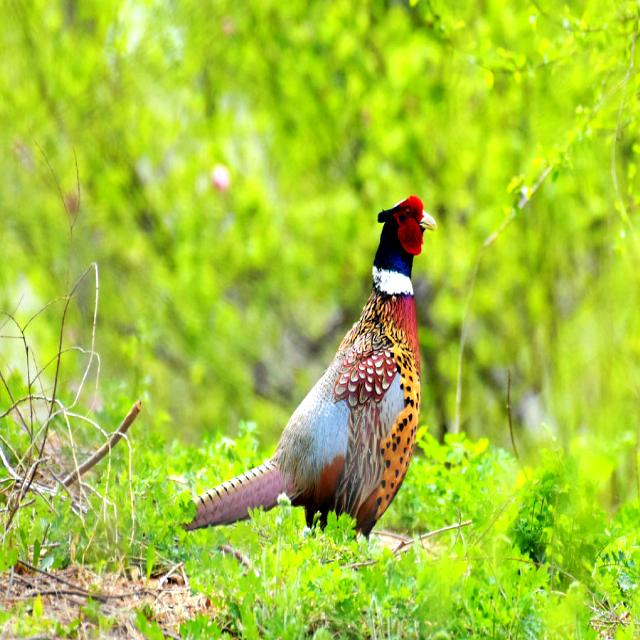Phasianus Colchicus: (185, 460, 284, 530)
